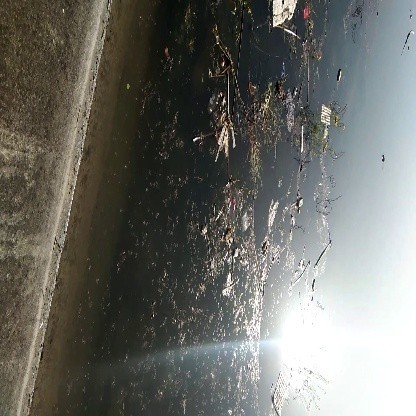branch: (314, 235, 334, 274)
